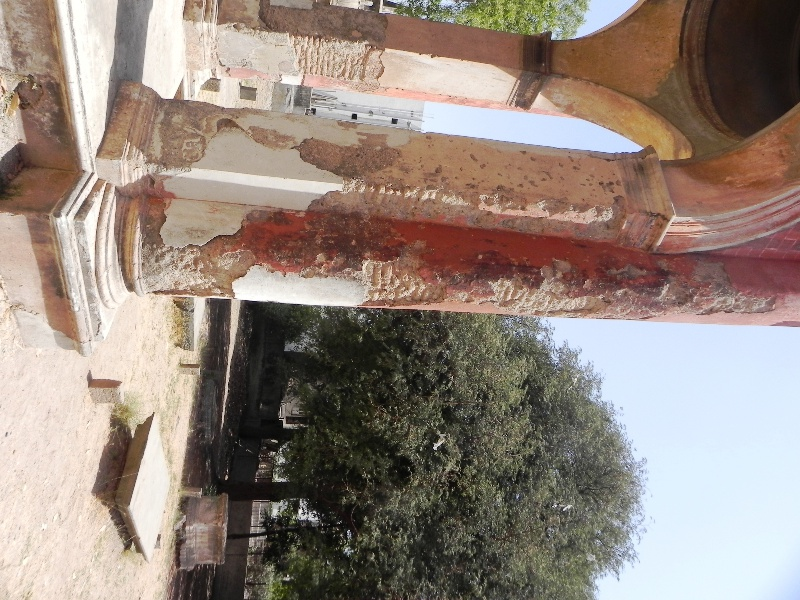Exposed Bricks: (294, 38, 371, 79), (497, 283, 592, 312), (370, 258, 431, 303)
Spalling: (139, 192, 260, 298), (292, 129, 406, 180)
